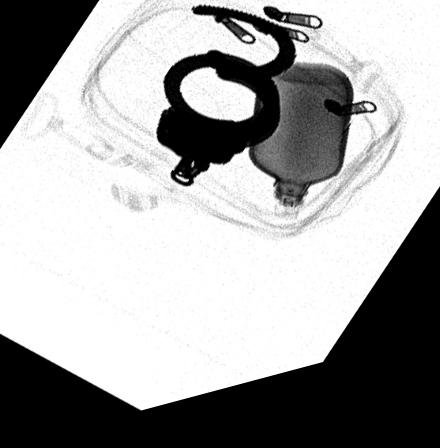HandCuffs: (156, 12, 296, 196)
